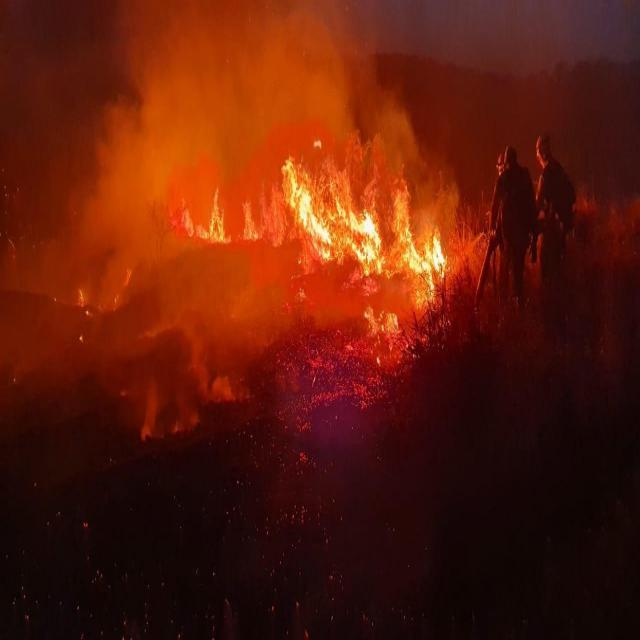Fire: (180, 179, 456, 291), (364, 299, 402, 341), (78, 284, 84, 309)
